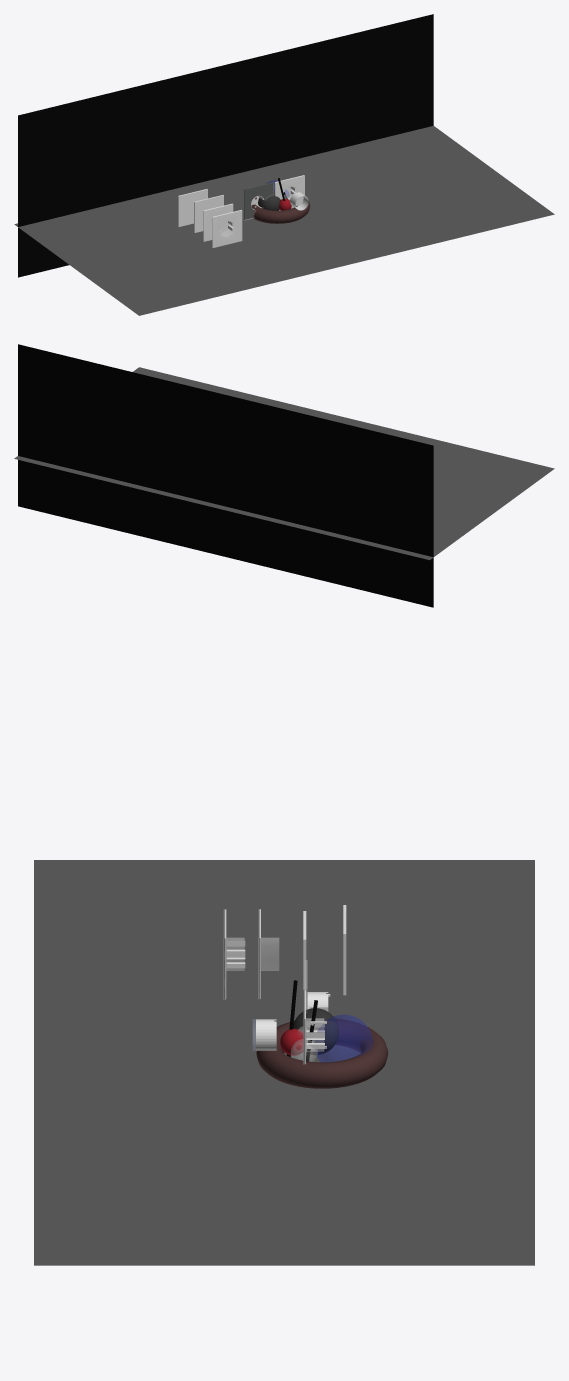
3 views of the same model, one above another, from view 1: azimuth 30°, elevation 25°; view 2: azimuth 150°, elevation 25°; view 3: azimuth 270°, elevation 25° (orthographic). The views are drawn at different scales.
Parts seen in each view (by area): view 1: Plane.002, Plane.001, Cube.004, Torus, Cube, Steckdose Simpel.001, Cube.003, Cube.001, Cube.002; view 2: Plane.002, Plane.001; view 3: Plane.001, Torus, Sphere, Cube.002.
Boxes of the visible parts, x1,y1,x2,y2 form: Plane.002: [18, 14, 433, 277]; Plane.001: [14, 125, 554, 315]; Cube.004: [212, 210, 242, 247]; Torus: [251, 189, 310, 223]; Cube: [178, 189, 207, 226]; Steckdose Simpel.001: [244, 182, 273, 220]; Cube.003: [194, 195, 223, 232]; Cube.001: [274, 175, 304, 210]; Cube.002: [203, 203, 233, 241]; Plane.002: [18, 344, 433, 607]; Plane.001: [14, 367, 554, 560]; Plane.001: [34, 860, 534, 1265]; Torus: [256, 1018, 388, 1088]; Sphere: [314, 1014, 373, 1062]; Cube.002: [258, 909, 279, 999].
Bounding box in the file's own units: 1.2 × 0.4474 × 0.6261.
